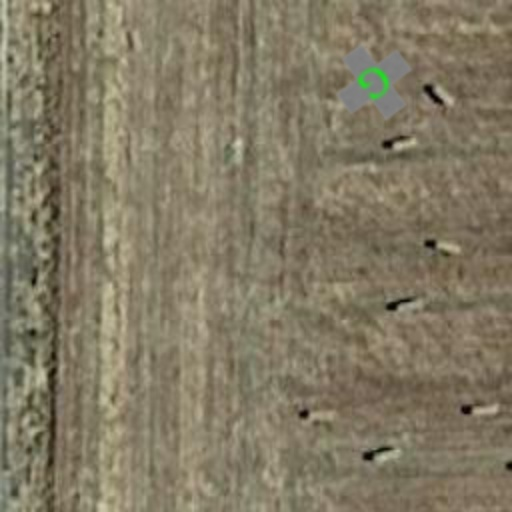cross: (320, 28, 428, 136)
